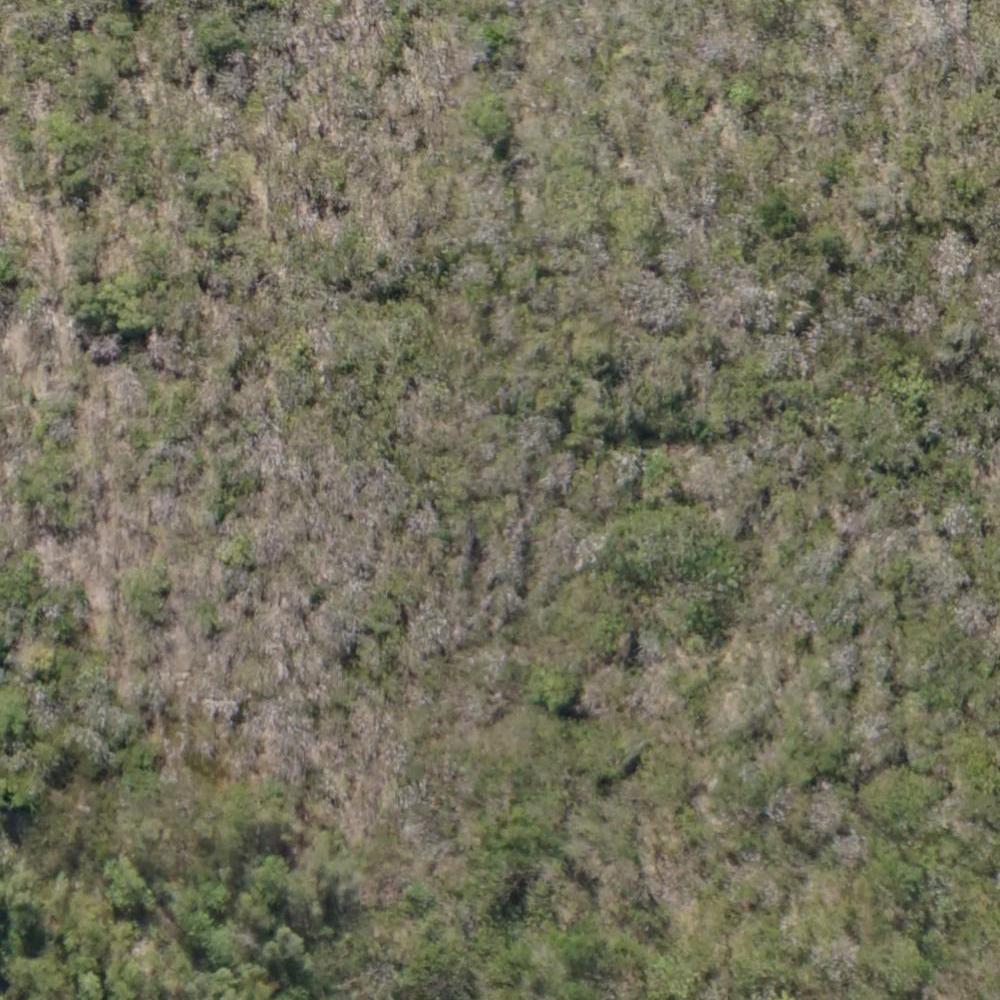tree: (869, 766, 930, 830), (104, 862, 152, 919), (874, 933, 924, 985), (532, 670, 582, 717), (268, 926, 315, 976), (573, 388, 615, 438), (246, 854, 293, 896), (473, 93, 512, 137), (198, 8, 236, 49), (941, 327, 977, 364), (403, 881, 439, 916), (682, 597, 718, 631), (726, 77, 760, 113), (768, 189, 806, 221), (207, 198, 245, 229), (1, 694, 29, 733), (204, 876, 234, 911), (142, 568, 173, 594), (121, 310, 148, 329)
